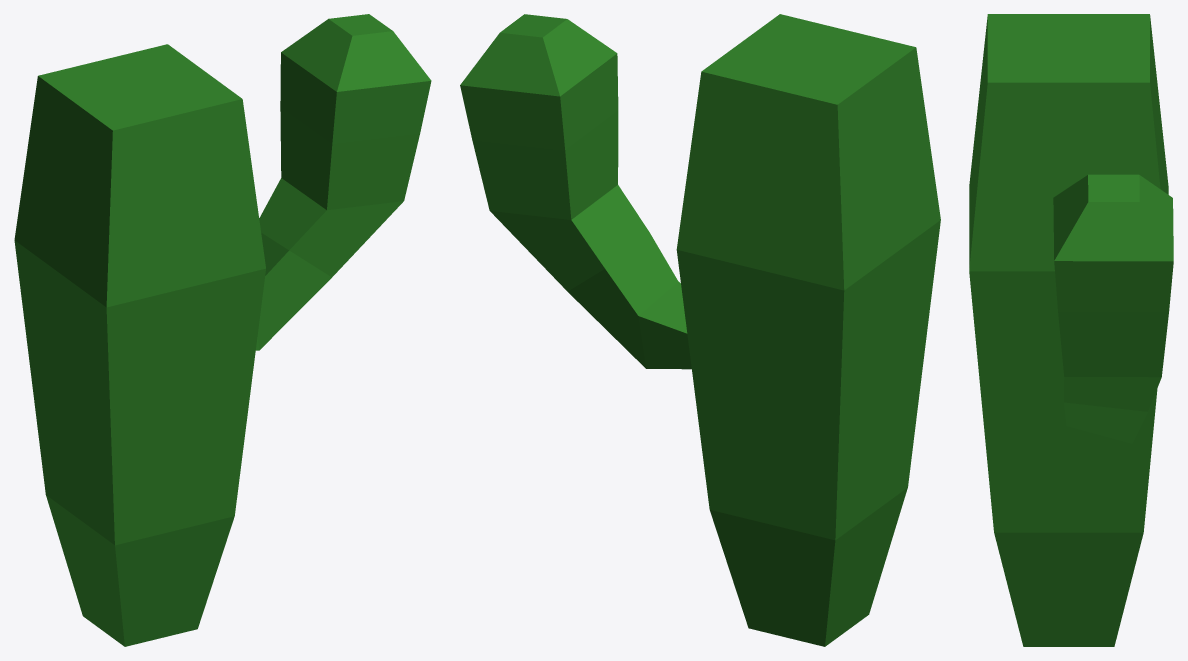
Rendered from kaktus2.fbx.
The picture shows the model from 3 angles, left to right: view 1: azimuth 30°, elevation 25°; view 2: azimuth 150°, elevation 25°; view 3: azimuth 270°, elevation 25°; orthographic projection. The views are drawn at different scales.
Visible parts, largest first — view 1: Cube.001; view 2: Cube.001; view 3: Cube.001.
Boxes of the visible parts, x1=… form: Cube.001: x1=14, y1=14, x2=431, y2=646; Cube.001: x1=460, y1=14, x2=940, y2=646; Cube.001: x1=969, y1=14, x2=1173, y2=646.
Bounding box in the file's own units: 350 × 492 × 157.
